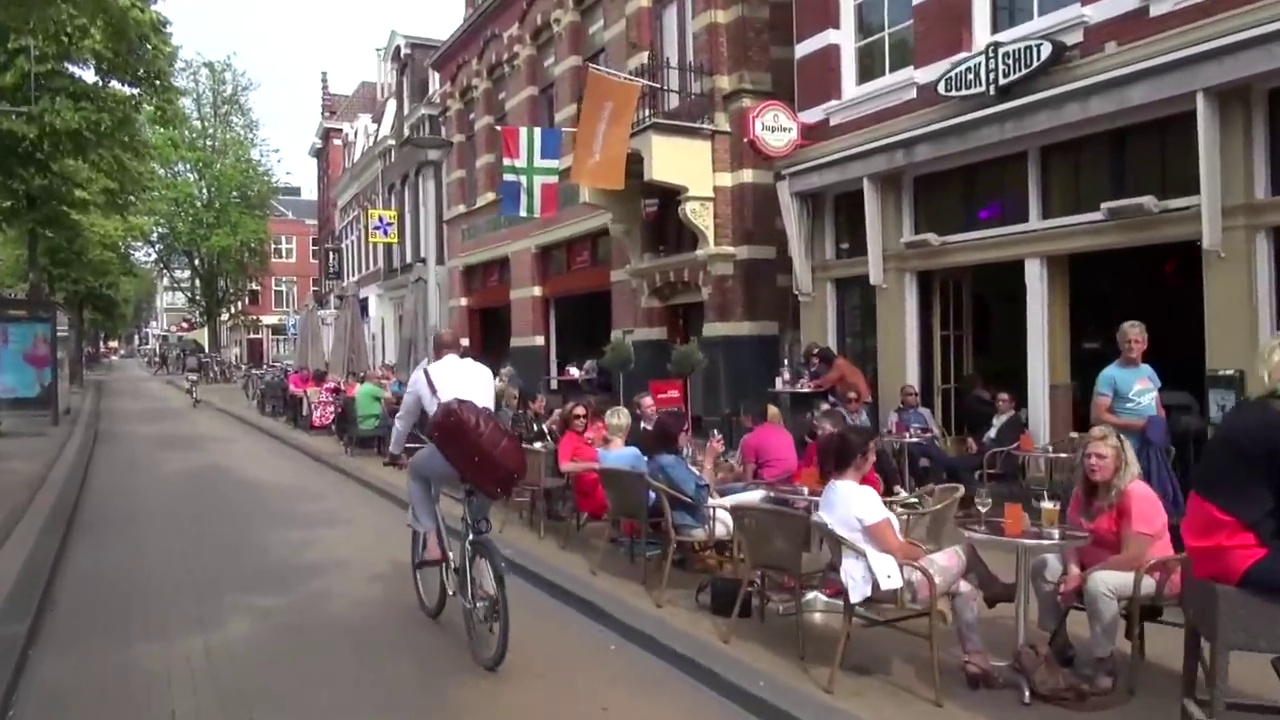cyclist_back: (387, 330, 522, 671), (180, 347, 204, 408)
